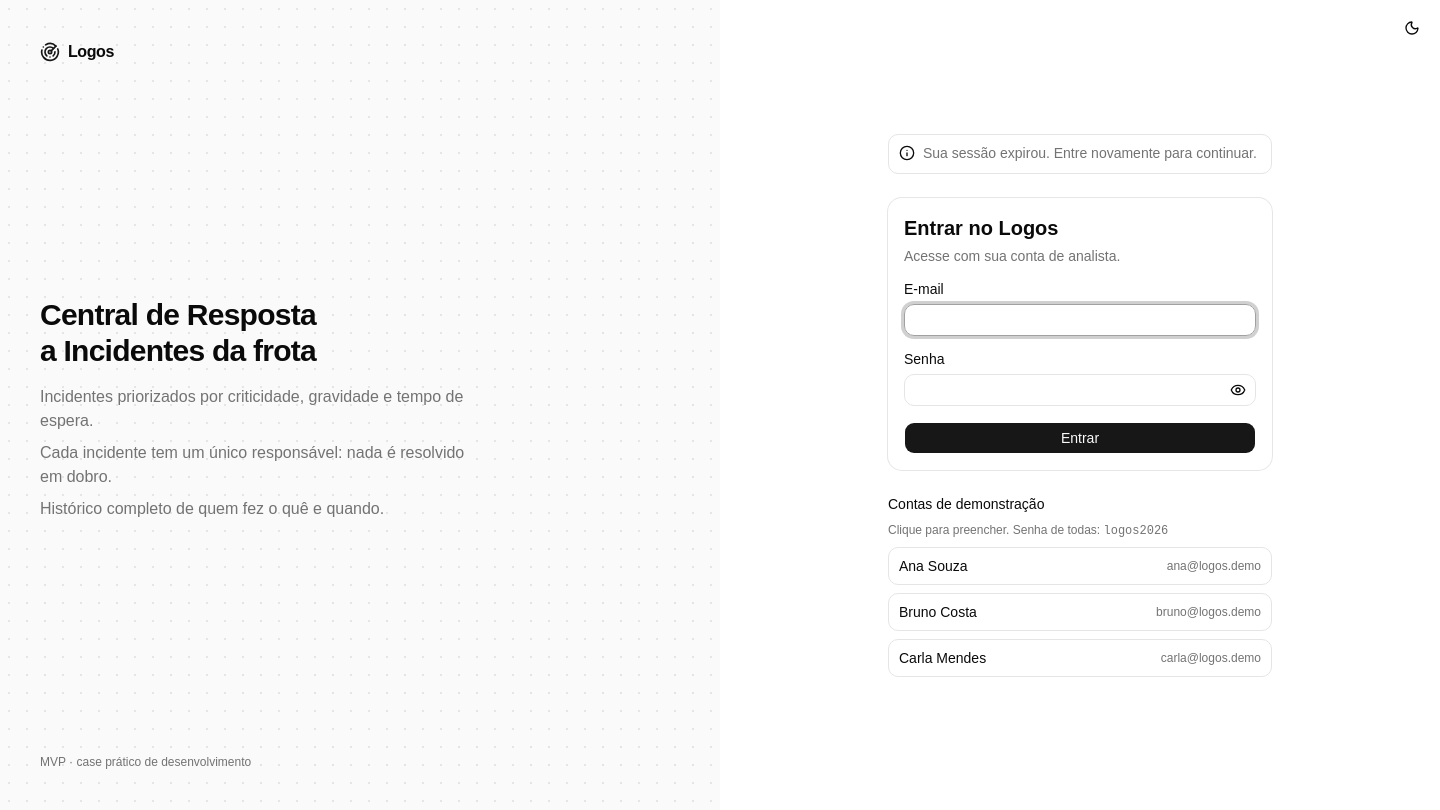
Test: tela de login › o aviso de sessão expirada some depois de um novo login
Expected: the text "Sua sessão expirou. Entre novamente para continuar." is shown, x1=923 y1=142 x2=1261 y2=162
Type "ana@logos.demo" into the field labelled "E-mail".
click(1080, 320); type("ana@logos.demo")  # box x1=904 y1=304 x2=1256 y2=336
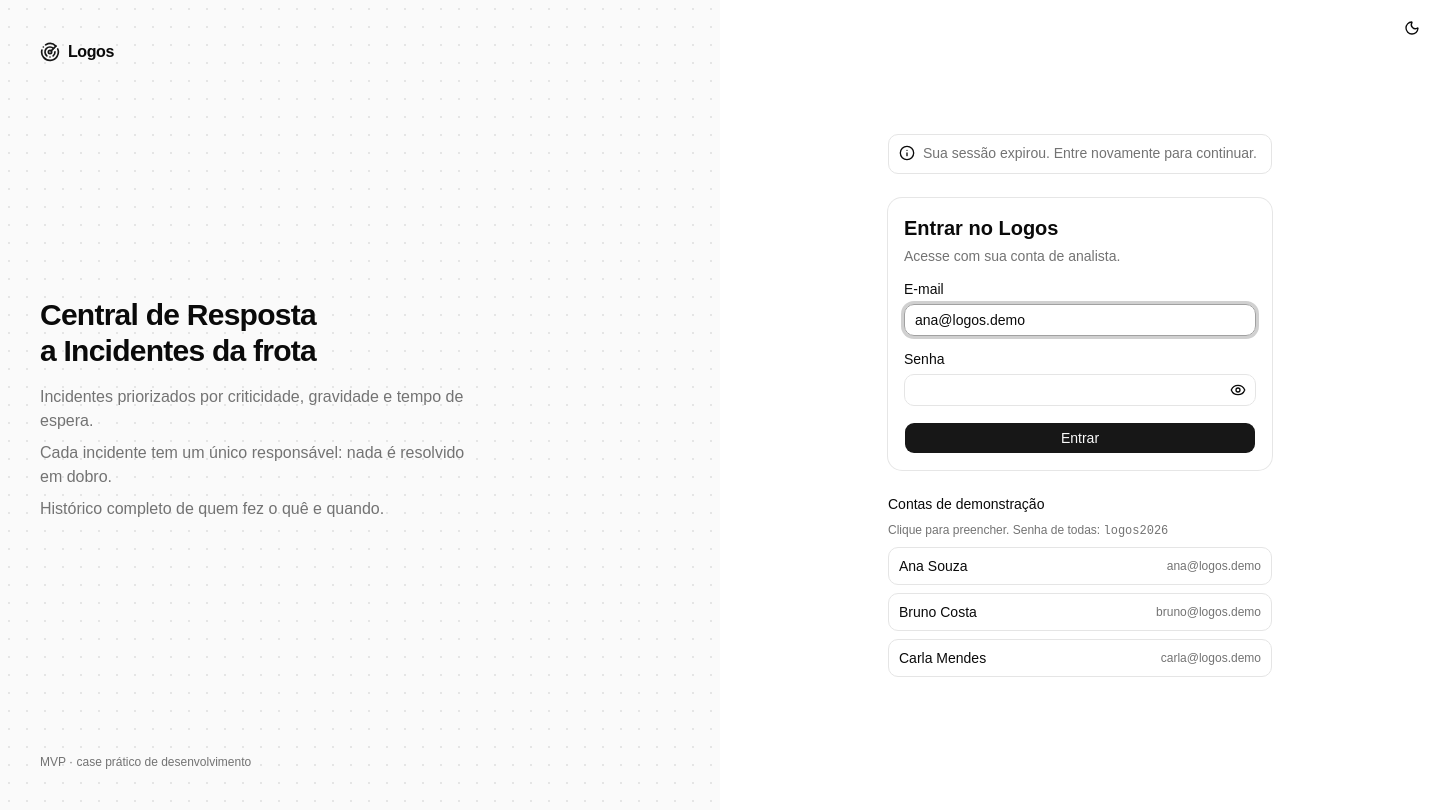
Type "logos2026" into the password field labelled "Senha".
click(1080, 390); type("logos2026")  # box x1=904 y1=374 x2=1256 y2=406
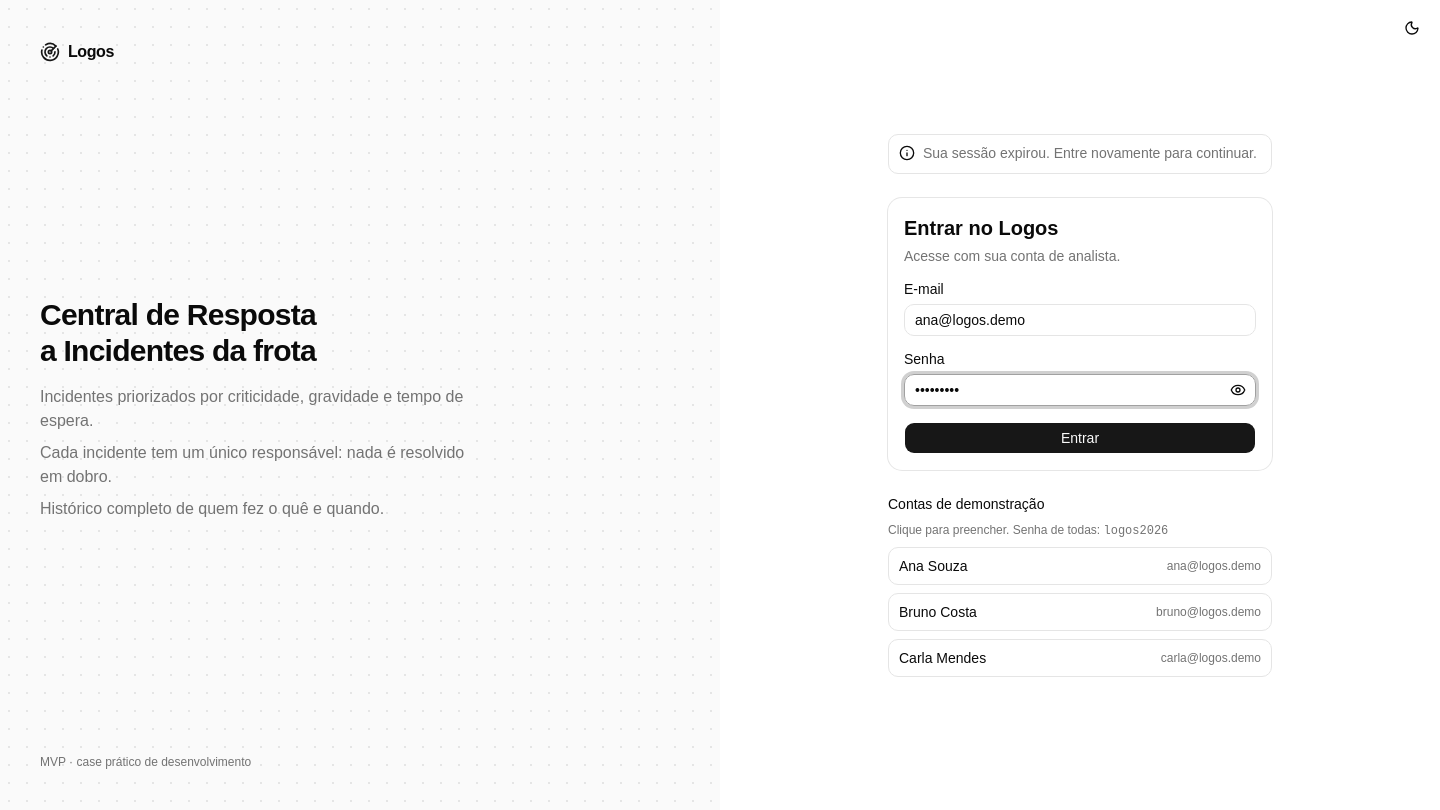
Click the button "Entrar".
click(1080, 438)  # box x1=904 y1=422 x2=1256 y2=454
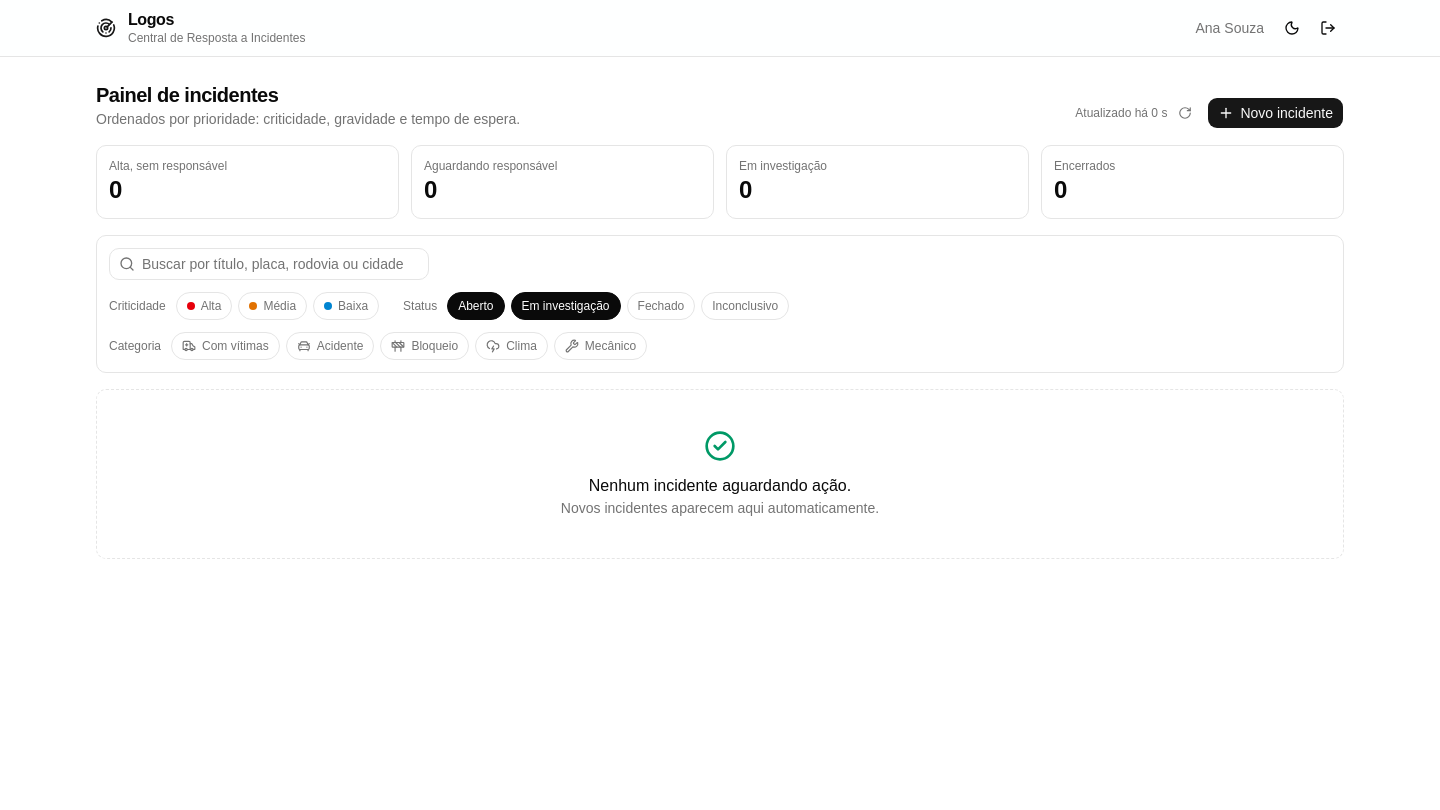
Now the heading "Painel de incidentes" is shown, box x1=96 y1=84 x2=278 y2=106
Click the button named "Sair".
click(1328, 28)  # box x1=1312 y1=12 x2=1344 y2=44
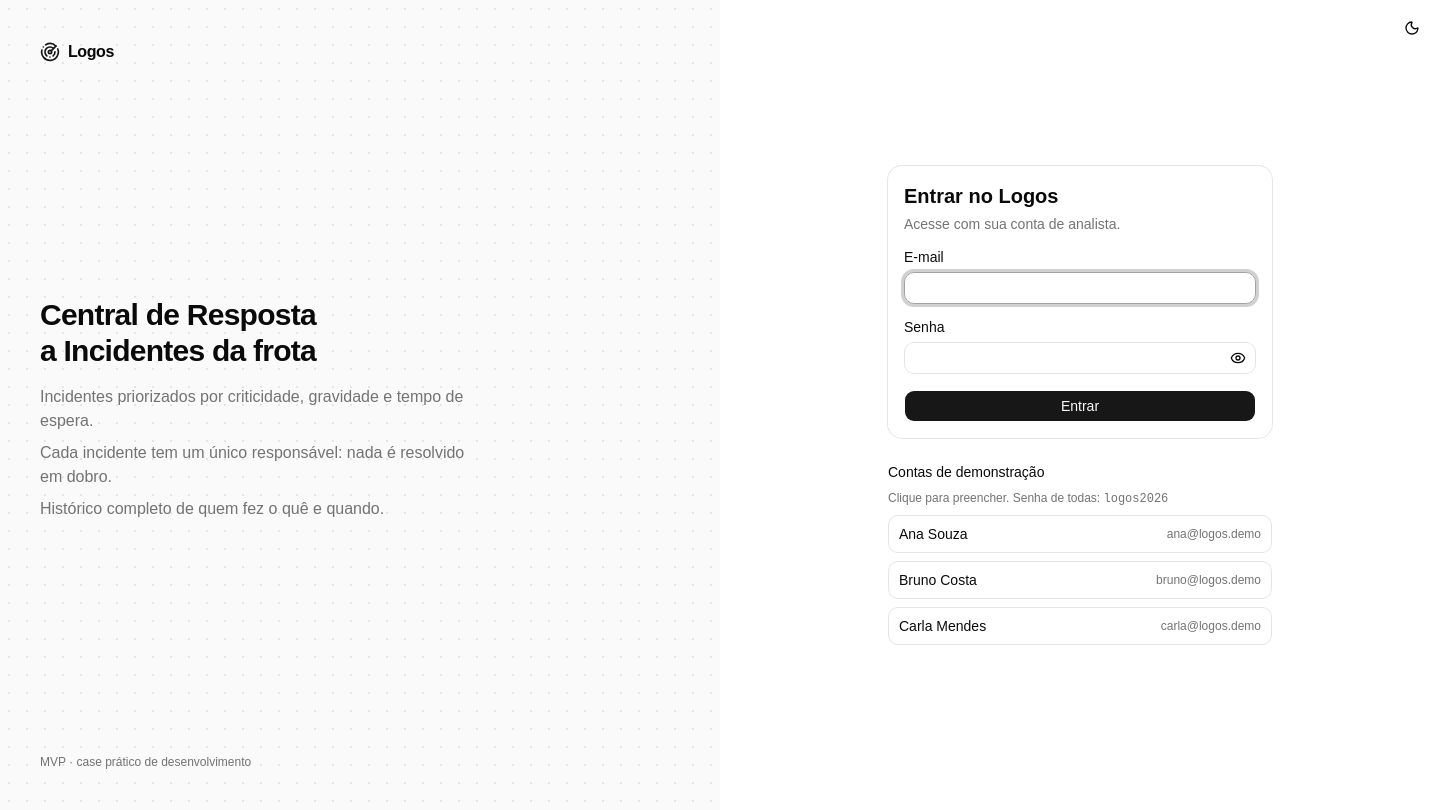
Expected: the text "Sua sessão expirou" is not shown
Now the heading "Entrar no Logos" is shown, box x1=904 y1=184 x2=1058 y2=206
